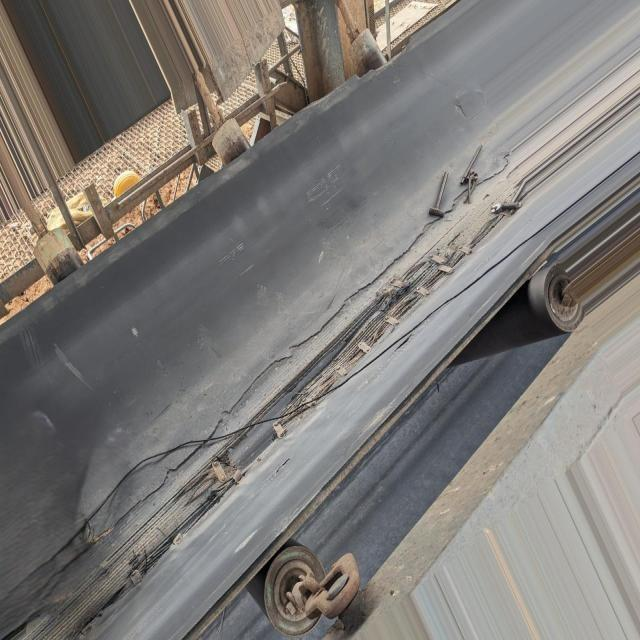Tear: (8, 173, 518, 640)
